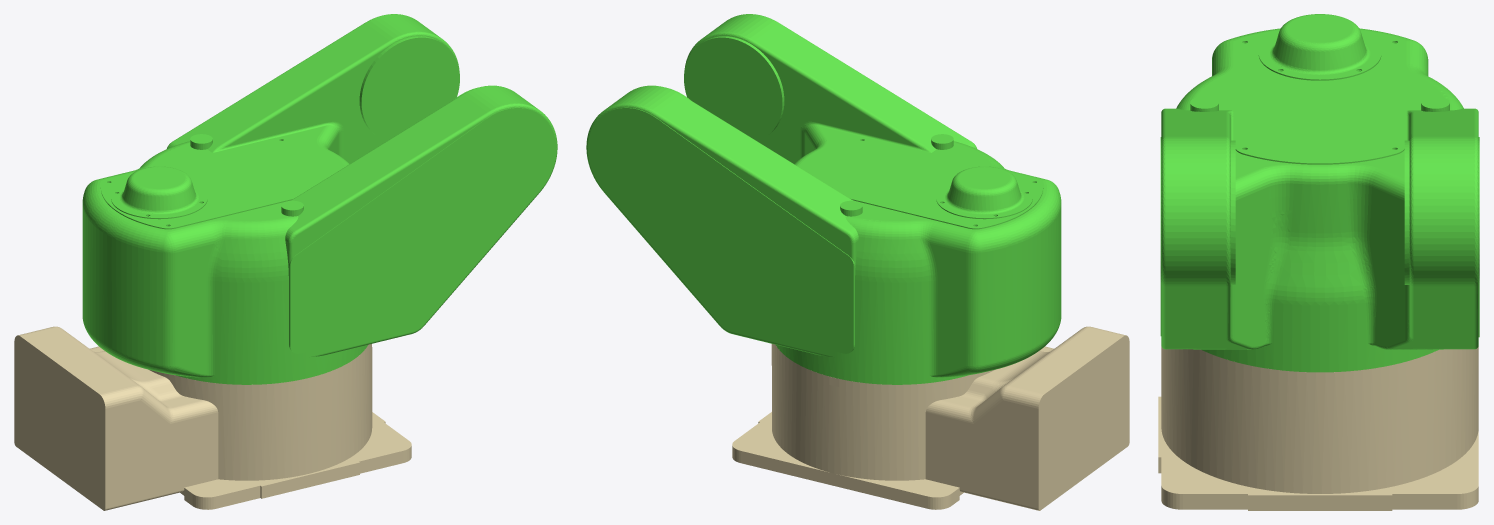
3 renders of one model, left to right at view 1: azimuth 30°, elevation 25°; view 2: azimuth 150°, elevation 25°; view 3: azimuth 270°, elevation 25°, orthographic. The views are drawn at different scales.
Visible parts, largest first — view 1: Link 1, Base; view 2: Link 1, Base; view 3: Link 1, Base.
Part boxes in pixels (bbox=[...]): Link 1: bbox=[82, 14, 557, 384]; Base: bbox=[14, 326, 411, 510]; Link 1: bbox=[586, 14, 1061, 384]; Base: bbox=[732, 326, 1129, 510]; Link 1: bbox=[1160, 14, 1479, 372]; Base: bbox=[1158, 346, 1478, 510].
Size of the model in its own units: 443 by 322 by 222.
